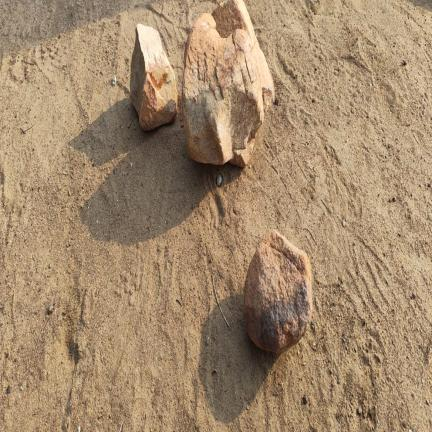Rocks: (183, 14, 263, 166), (244, 231, 311, 353), (213, 0, 274, 112), (131, 24, 177, 130)
